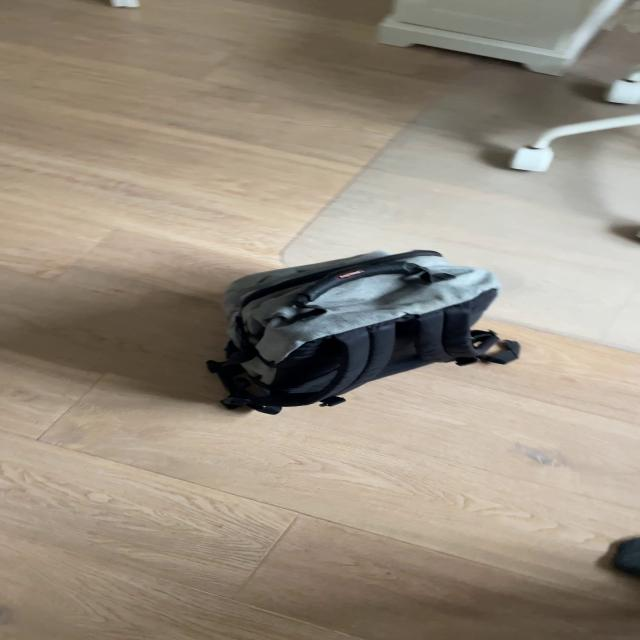backpack: (190, 242, 511, 420)
